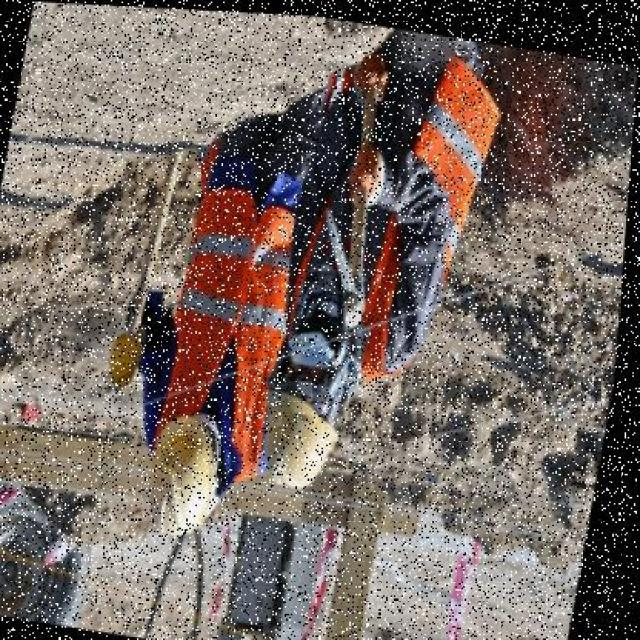helmet: (143, 403, 233, 533), (251, 376, 349, 495)
vest: (157, 168, 307, 441)
